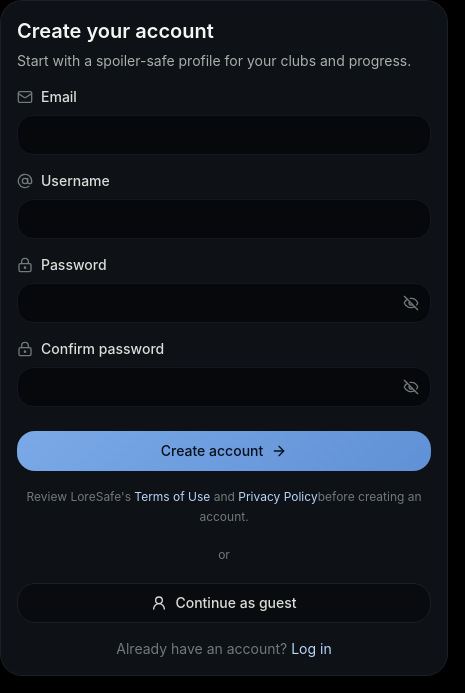
Scenario: demo login forms › disables the signup fields and shows a loading label while opening the demo
Click the button "Continue as guest" at (224, 603), box top-left (17, 583), bottom-right (431, 623)
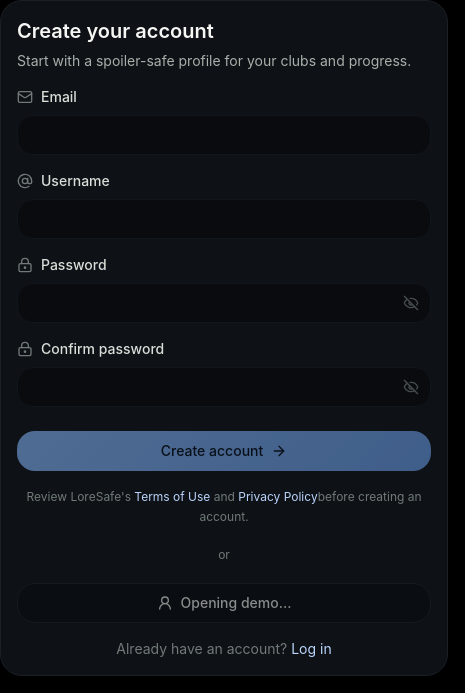
Expected: the button "Opening demo..." is disabled, top-left (17, 583), bottom-right (431, 623)
Expected: the button "Create account" is disabled, top-left (17, 431), bottom-right (431, 471)
